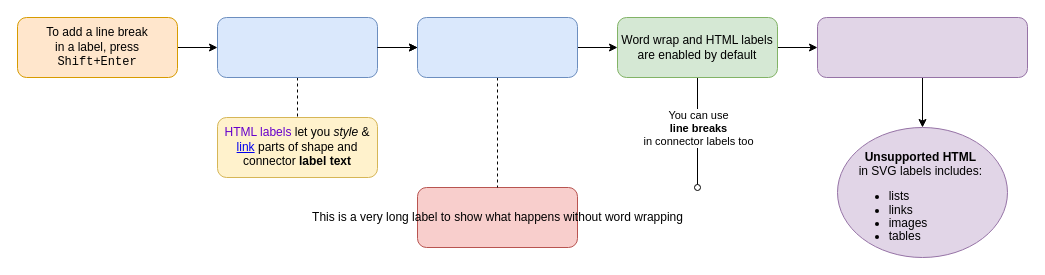
This 1045x275 diagram has some shape labels left out. Here are the shapes that lost their labels. From the top down, the centre of each, then its label:
At [297,47]: "Line breaks require HTML or SVG labels to be enabled".
At [497,47]: "Line breaks also require word wrap to be enabled".
At [922,47]: "Format issues? Convert the affected labels to SVG".
